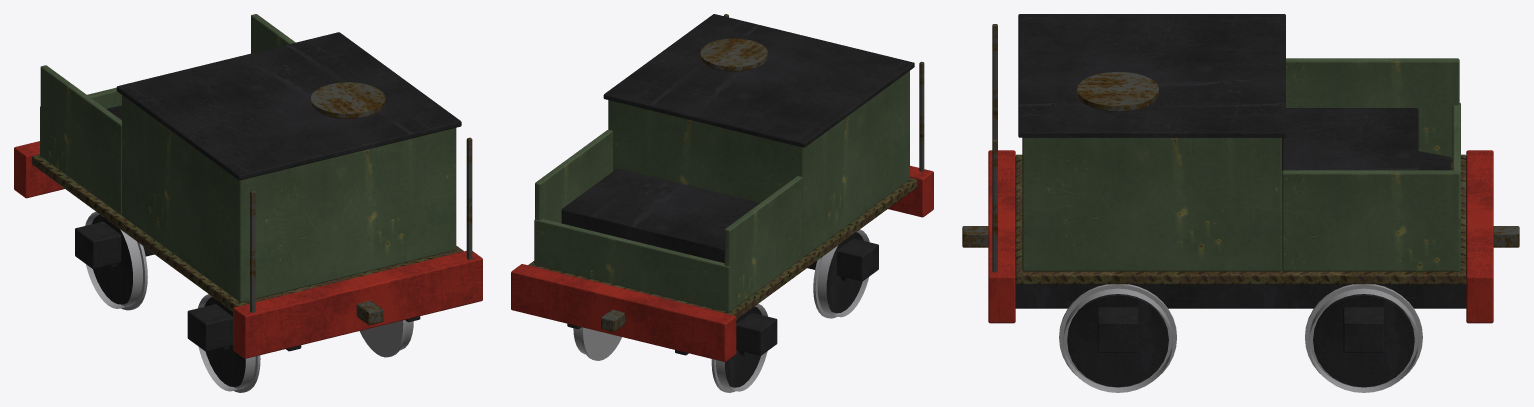
Rendered from tender.glb.
3 renders of one model, left to right at view 1: azimuth 30°, elevation 25°; view 2: azimuth 150°, elevation 25°; view 3: azimuth 270°, elevation 25°, orthographic. The views are drawn at different scales.
Visible parts, largest first — view 1: Body, Wheel_FL, WaterHatch, Wheel_RL, Wheel_RR; view 2: Body, Wheel_RL, Wheel_FL, WaterHatch, Wheel_FR; view 3: Body, Wheel_FR, Wheel_RR, WaterHatch.
Boxes of the visible parts, left/top/right/bottom form: Body: left=14, top=14, right=482, bottom=358; Wheel_FL: left=85, top=211, right=147, bottom=310; WaterHatch: left=310, top=82, right=385, bottom=118; Wheel_RL: left=198, top=294, right=260, bottom=392; Wheel_RR: left=359, top=320, right=413, bottom=357; Body: left=511, top=14, right=933, bottom=361; Wheel_RL: left=813, top=229, right=869, bottom=318; Wheel_FL: left=711, top=304, right=767, bottom=392; WaterHatch: left=700, top=38, right=767, bottom=71; Wheel_FR: left=573, top=327, right=621, bottom=360; Body: left=962, top=14, right=1519, bottom=352; Wheel_FR: left=1305, top=284, right=1422, bottom=392; Wheel_RR: left=1059, top=284, right=1176, bottom=392; WaterHatch: left=1077, top=71, right=1158, bottom=111.
Bounding box in the file's own units: 2.2 × 2.31 × 4.08.
6 materials, 5 textured.
